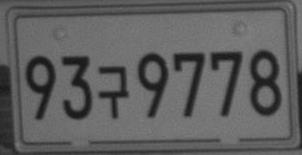3: (61, 55, 91, 119)
7: (210, 51, 243, 116), (173, 52, 205, 117)
8: (249, 49, 281, 116)
9: (24, 54, 56, 120), (137, 52, 169, 118)
구: (98, 65, 129, 119)
